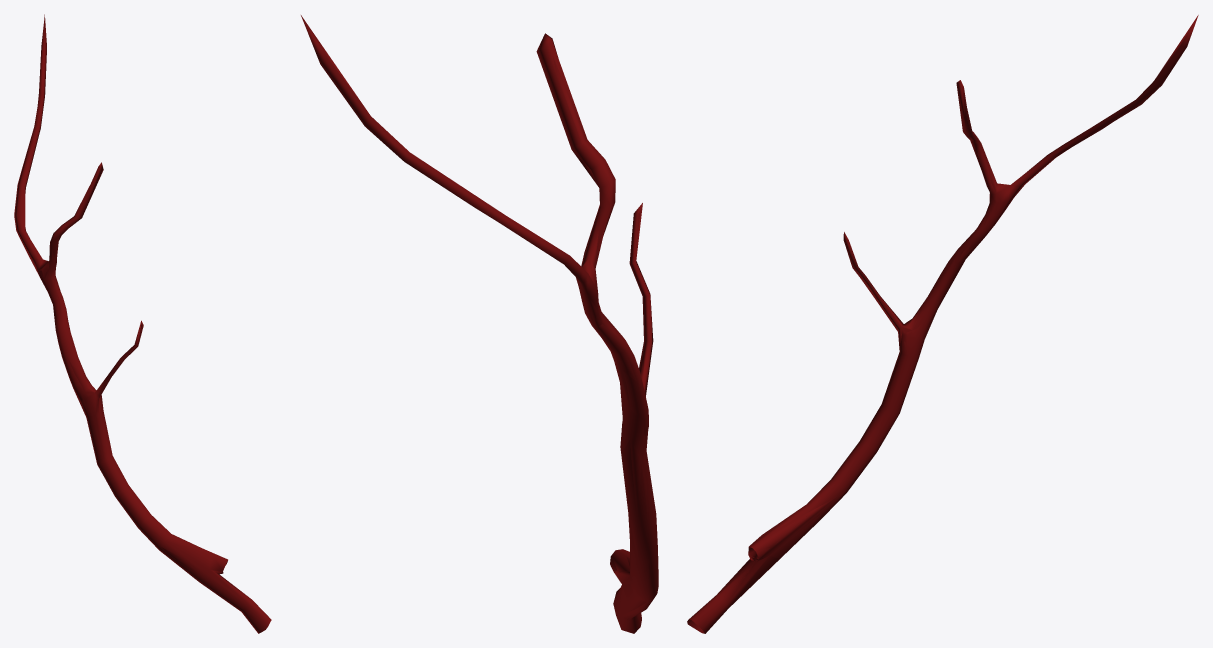
Rendered from R arteria subscapularis.fbx.
3 views of the same model, side by side, from view 1: azimuth 30°, elevation 25°; view 2: azimuth 150°, elevation 25°; view 3: azimuth 270°, elevation 25° (orthographic). The views are drawn at different scales.
Parts seen in each view (by area): view 1: R arteria subscapularis, R arteria subscapularis low; view 2: R arteria subscapularis, R arteria subscapularis low; view 3: R arteria subscapularis, R arteria subscapularis low.
Boxes of the visible parts, bbox=[...] form: R arteria subscapularis: bbox=[14, 17, 271, 633]; R arteria subscapularis low: bbox=[14, 15, 259, 633]; R arteria subscapularis: bbox=[301, 15, 658, 633]; R arteria subscapularis low: bbox=[302, 17, 658, 624]; R arteria subscapularis: bbox=[687, 15, 1198, 633]; R arteria subscapularis low: bbox=[688, 16, 1197, 632].
Size of the model in its own units: 3.33 by 13.5 by 10.29.
